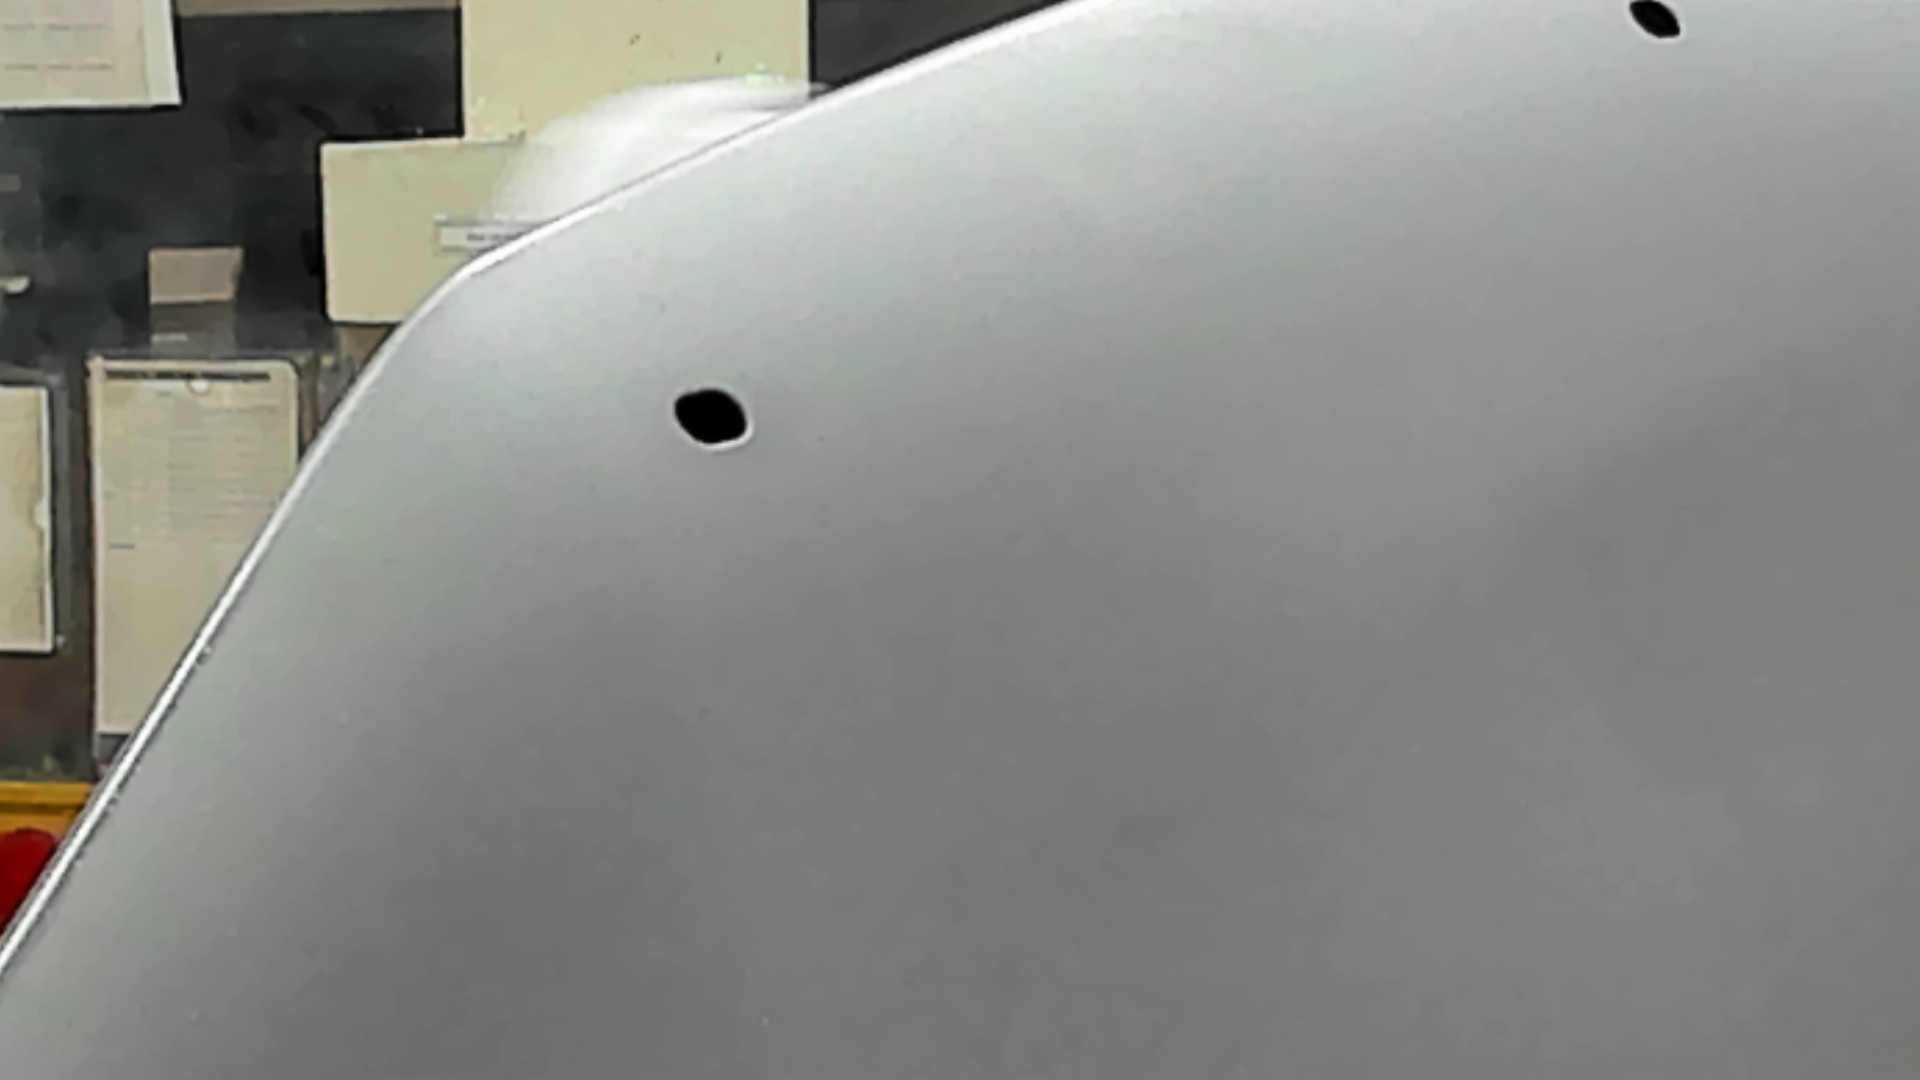chico: (669, 378, 760, 458), (1623, 1, 1687, 47)
